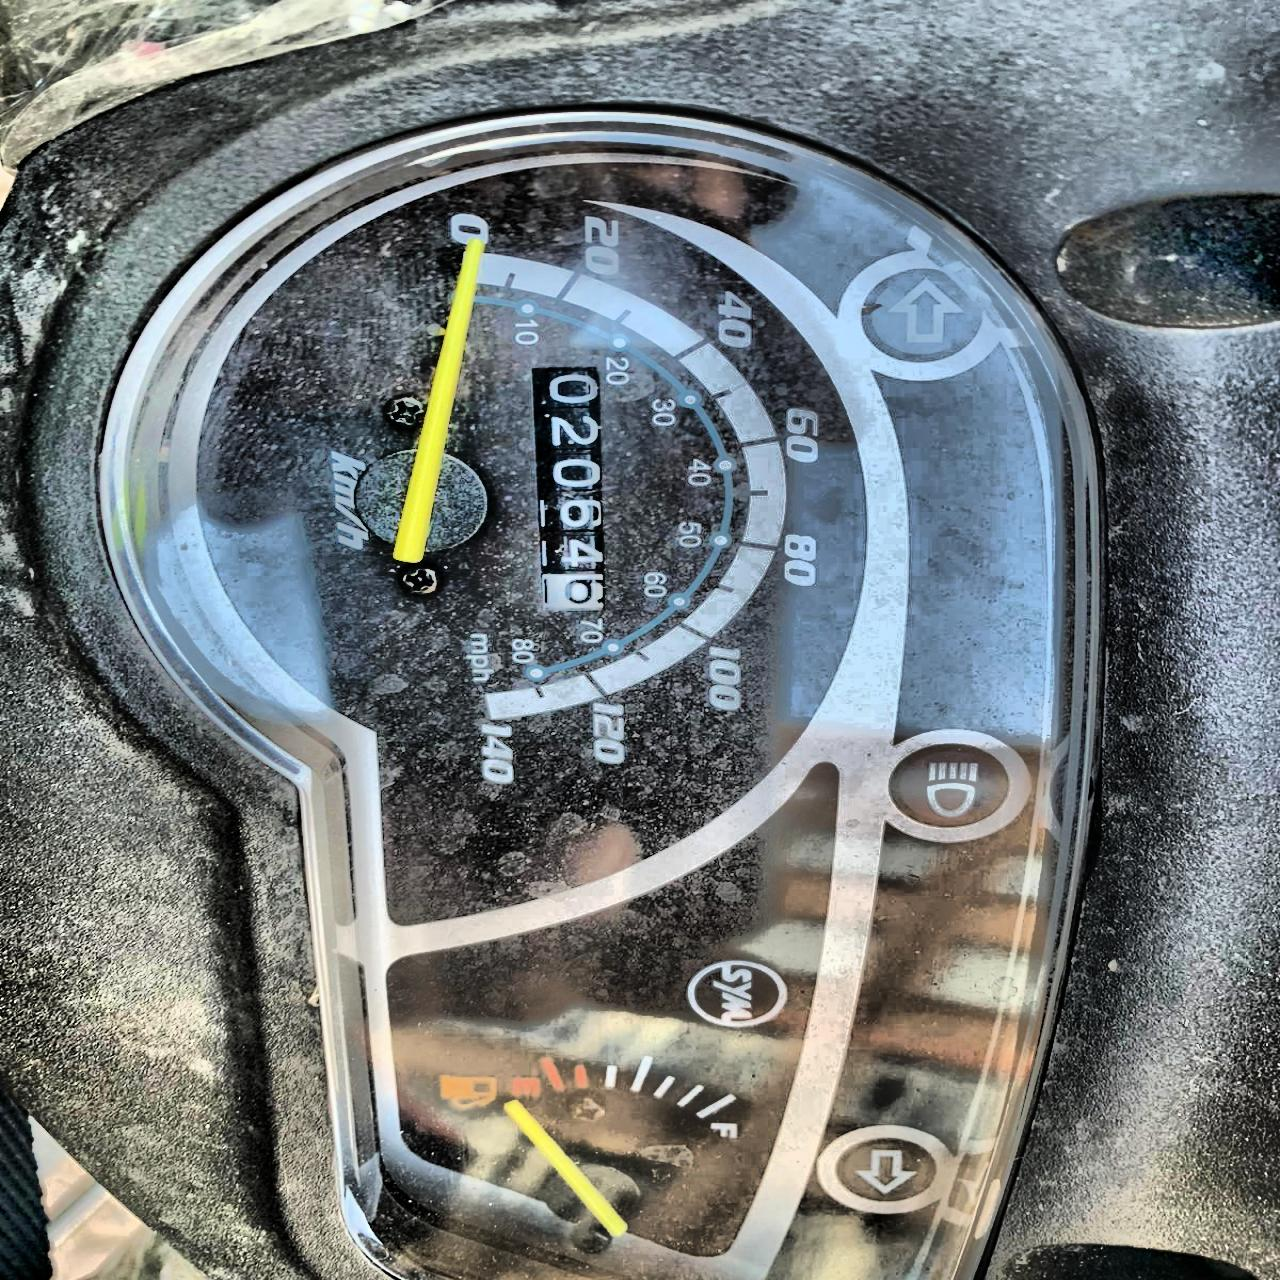0: (545, 373, 601, 403), (549, 457, 601, 486)
2: (546, 415, 600, 447)
4: (556, 537, 602, 570)
6: (558, 497, 602, 529), (559, 579, 606, 606)
odometer: (525, 362, 606, 620)
